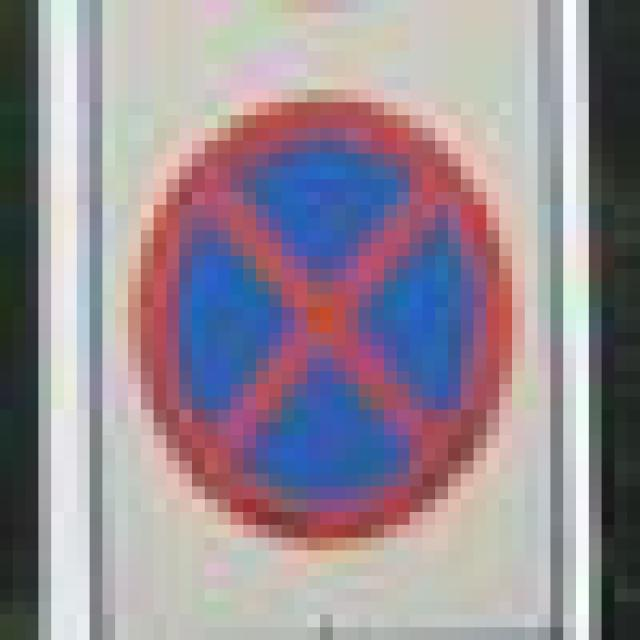no_parking: (115, 90, 512, 538)
